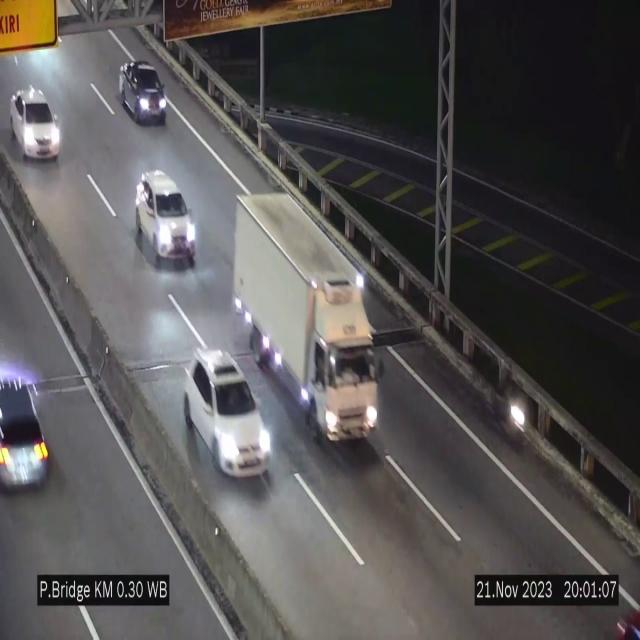Car: (184, 350, 272, 480), (0, 356, 58, 504), (136, 171, 196, 266), (11, 89, 61, 160), (119, 60, 167, 124)
Motorcycle: (487, 362, 528, 452)
Truck: (230, 186, 385, 446)
